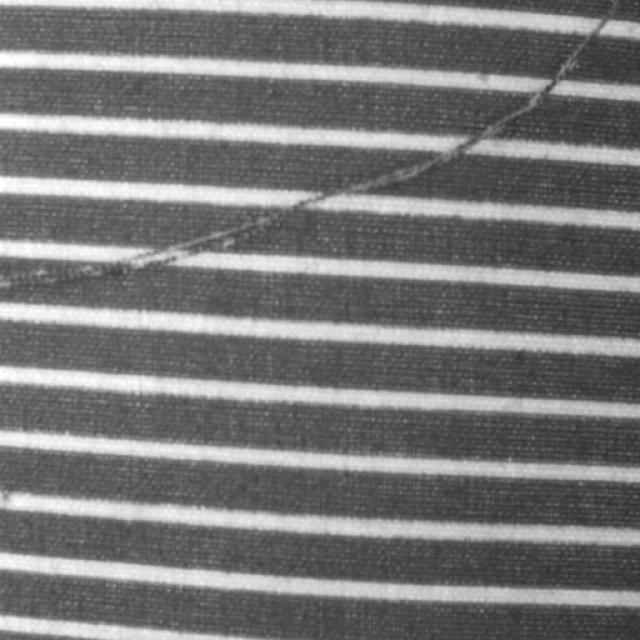Foreign-Body-Defect: (5, 0, 628, 301)
